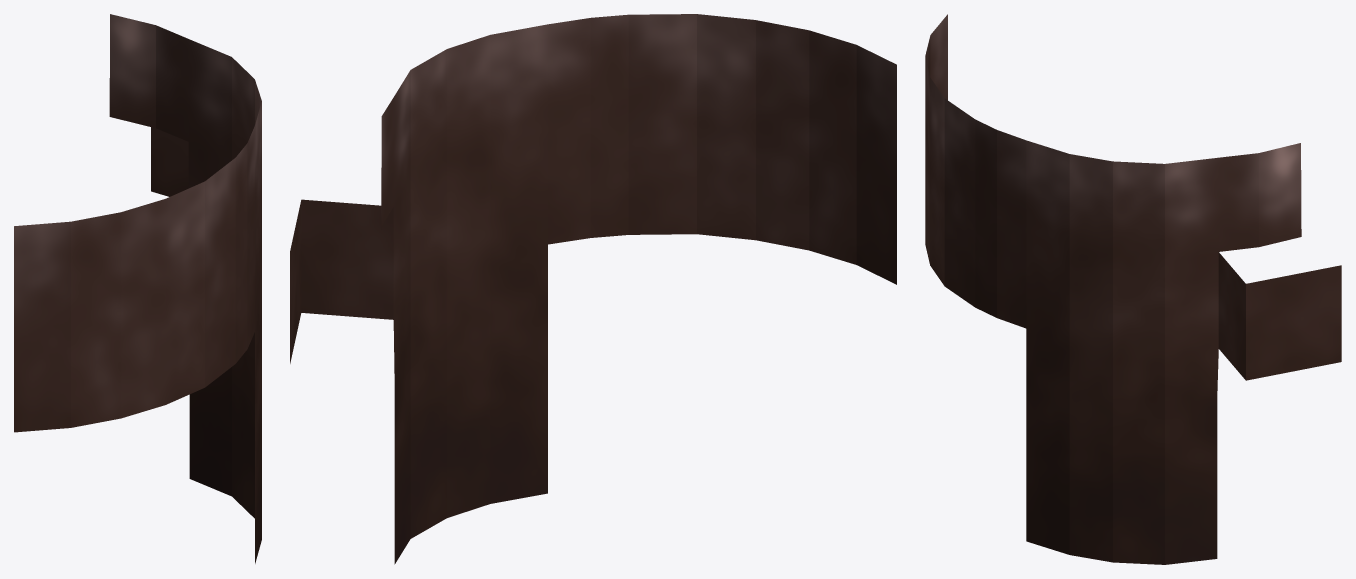
The model's file is Wall03.obj.
3 views of the same model, side by side, from view 1: azimuth 30°, elevation 25°; view 2: azimuth 150°, elevation 25°; view 3: azimuth 270°, elevation 25° (orthographic). The views are drawn at different scales.
Parts seen in each view (by area): view 1: WallCircle_Plane.001; view 2: WallCircle_Plane.001; view 3: WallCircle_Plane.001.
Part boxes in pixels (x1=…): WallCircle_Plane.001: x1=14, y1=14, x2=261, y2=563; WallCircle_Plane.001: x1=290, y1=14, x2=896, y2=564; WallCircle_Plane.001: x1=925, y1=14, x2=1341, y2=564.
Size of the model in its own units: 14.88 by 15.84 by 14.91.
Materials: 1 (1 with a texture image).
